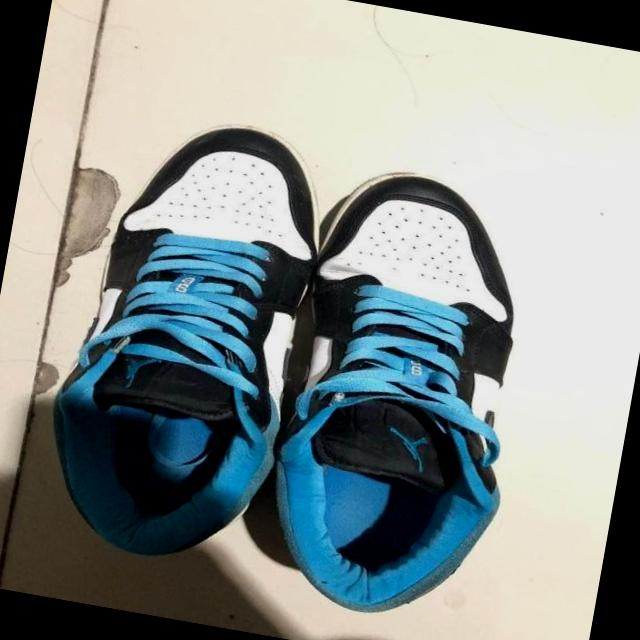nike_fake_jordan: (31, 100, 352, 578), (246, 156, 558, 631)
